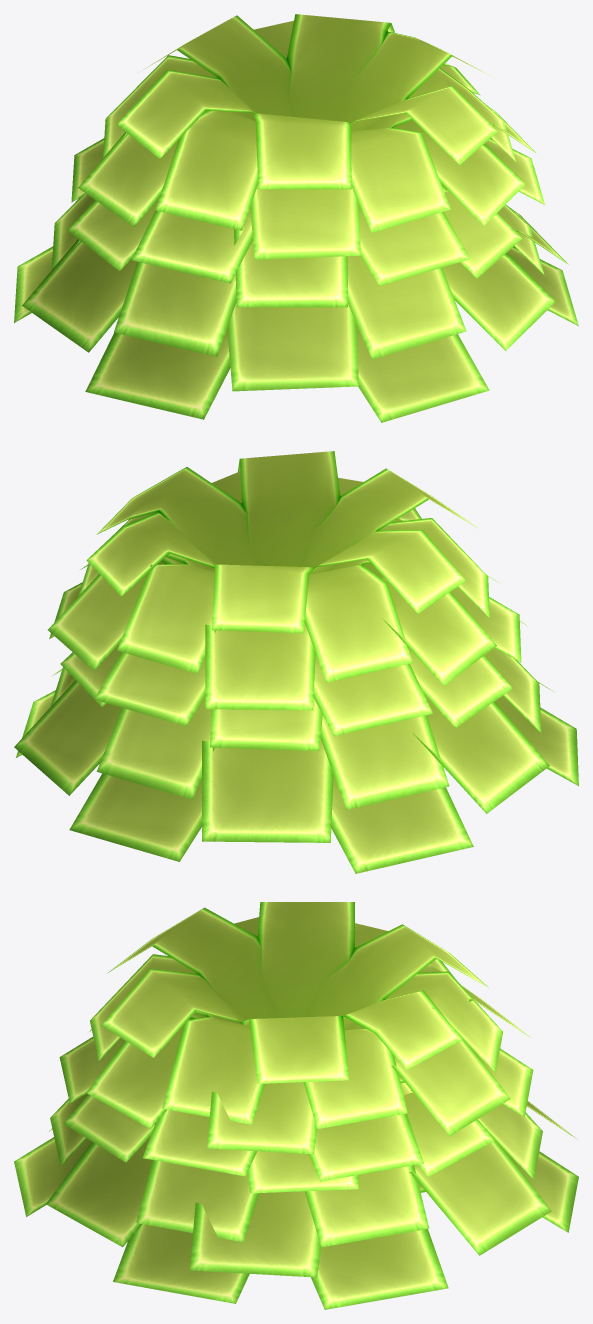
File: SM_Plant_01_C.glb
3 renders of one model, top to bottom at view 1: azimuth 30°, elevation 25°; view 2: azimuth 150°, elevation 25°; view 3: azimuth 270°, elevation 25°, orthographic.
Visible parts, largest first — view 1: SM_Plant_01_C; view 2: SM_Plant_01_C; view 3: SM_Plant_01_C.
Part boxes in pixels (left/top/right/bottom): SM_Plant_01_C: left=14, top=14, right=578, bottom=422; SM_Plant_01_C: left=14, top=451, right=578, bottom=873; SM_Plant_01_C: left=14, top=902, right=578, bottom=1309.
Bounding box in the file's own units: 0.8229 × 0.4208 × 0.815.
Materials: 1 (1 with a texture image).
